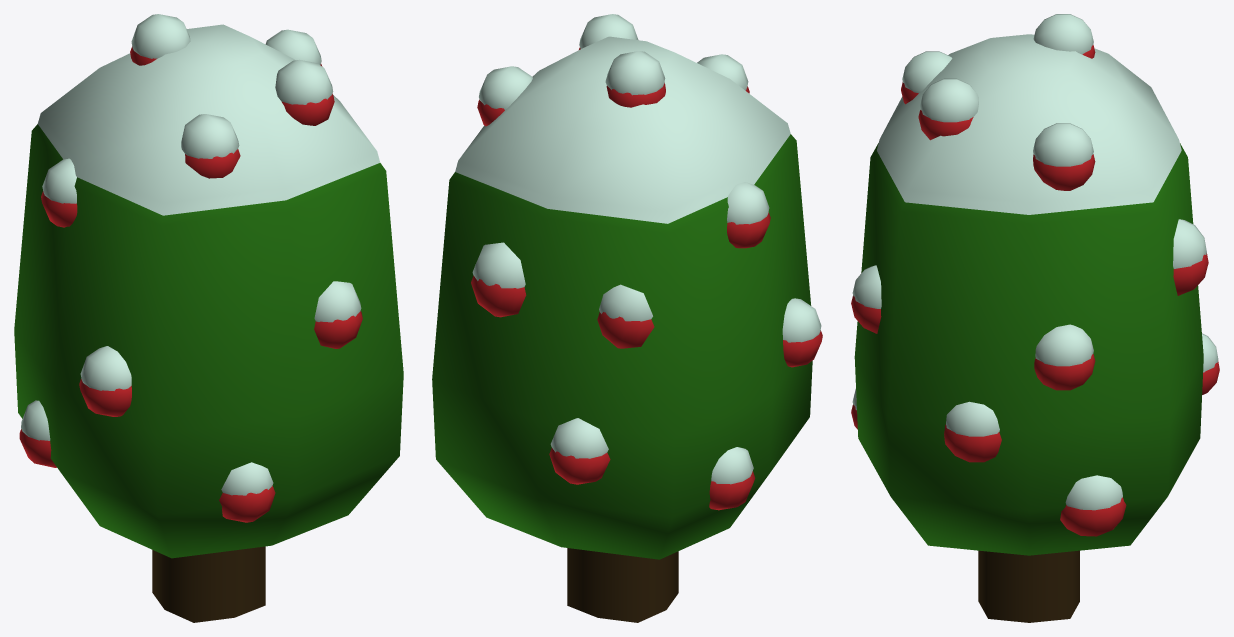
Rendered from winter-tree-apple-tall-g-v2.glb.
3 views of the same model, side by side, from view 1: azimuth 30°, elevation 25°; view 2: azimuth 150°, elevation 25°; view 3: azimuth 270°, elevation 25° (orthographic). The views are drawn at different scales.
Visible parts, largest first — view 1: WinterTreeAppleTallG_v2; view 2: WinterTreeAppleTallG_v2; view 3: WinterTreeAppleTallG_v2.
Part boxes in pixels (box(x1,y1,x2,y2)): WinterTreeAppleTallG_v2: box(14, 14, 403, 622); WinterTreeAppleTallG_v2: box(432, 14, 822, 622); WinterTreeAppleTallG_v2: box(851, 14, 1219, 622).
Size of the model in its own units: 181 by 306 by 179.
1 material, 1 textured.
